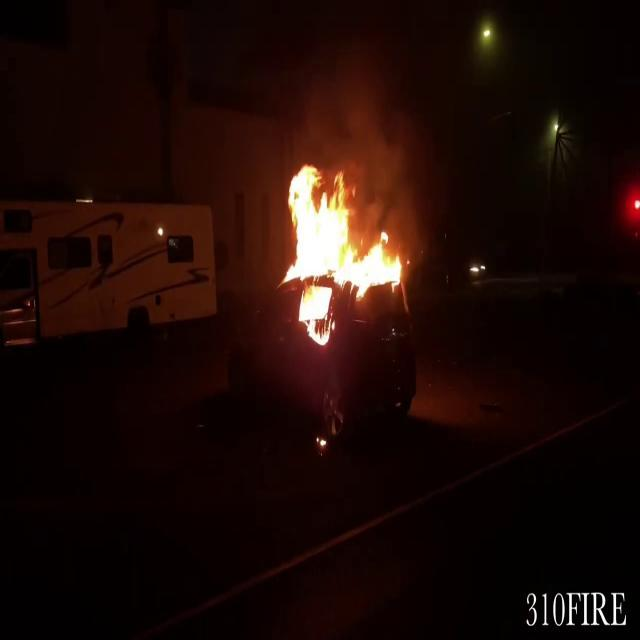Fire: (282, 184, 414, 356)
Smoke: (248, 3, 452, 225)
